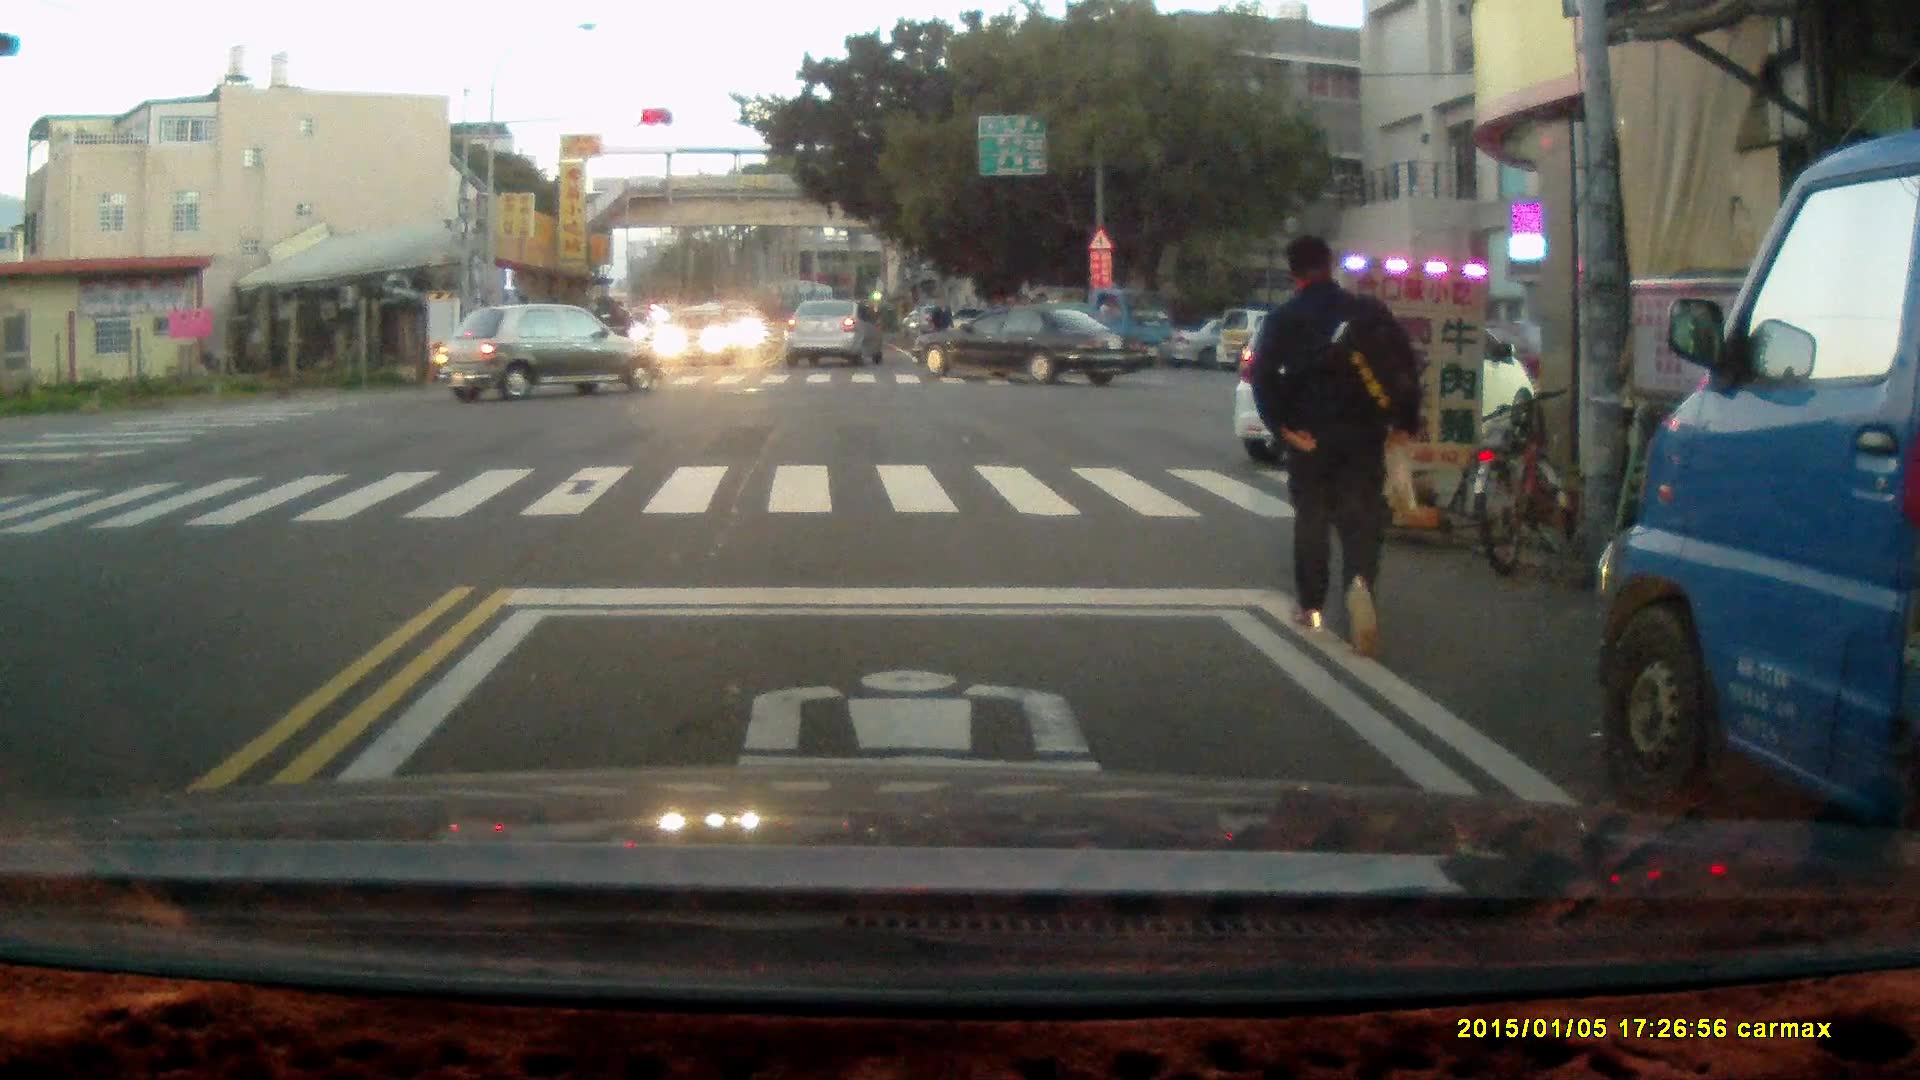pedestrian: (1250, 233, 1422, 656), (931, 293, 952, 354)
rider: (603, 302, 632, 365)
vehicle: (1598, 132, 1920, 851), (1233, 296, 1533, 459), (437, 304, 664, 404), (911, 303, 1151, 386), (787, 299, 886, 370)
